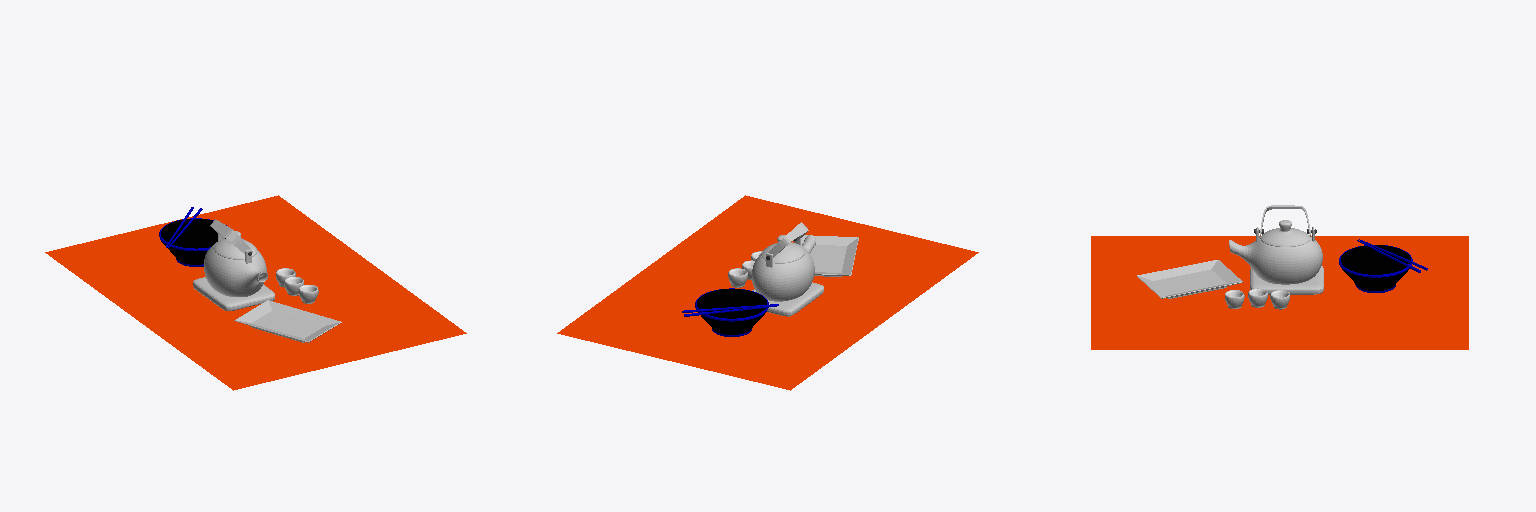
File: update.obj
3 views of the same model, side by side, from view 1: azimuth 30°, elevation 25°; view 2: azimuth 150°, elevation 25°; view 3: azimuth 270°, elevation 25° (orthographic).
Visible parts, largest first — view 1: Background, Teapot, Onigiri_Plate, Bowl, Teapot_trivet; view 2: Background, Teapot, Bowl, Onigiri_Plate, Teapot_trivet; view 3: Background, Teapot, Onigiri_Plate, Bowl, Teapot_trivet.
Boxes of the visible parts, box(x1,y1,x2,y2) form: Background: box(45, 195, 466, 390); Teapot: box(204, 231, 267, 296); Onigiri_Plate: box(234, 300, 341, 342); Bowl: box(159, 218, 226, 266); Teapot_trivet: box(193, 277, 274, 310); Background: box(557, 195, 978, 390); Teapot: box(752, 235, 815, 301); Bowl: box(695, 288, 768, 336); Onigiri_Plate: box(801, 235, 858, 276); Teapot_trivet: box(752, 282, 823, 316); Background: box(1091, 236, 1468, 349); Teapot: box(1229, 220, 1322, 284); Onigiri_Plate: box(1137, 260, 1242, 298); Bowl: box(1339, 245, 1412, 292); Teapot_trivet: box(1250, 266, 1323, 294).
Bounding box in the file's own units: 2.27 × 0.6861 × 3.17.